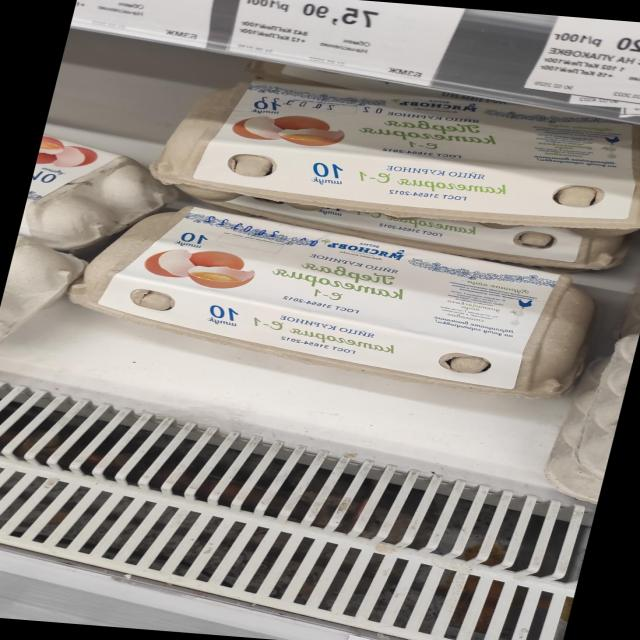organic waste: (56, 197, 626, 399), (142, 75, 640, 237)
